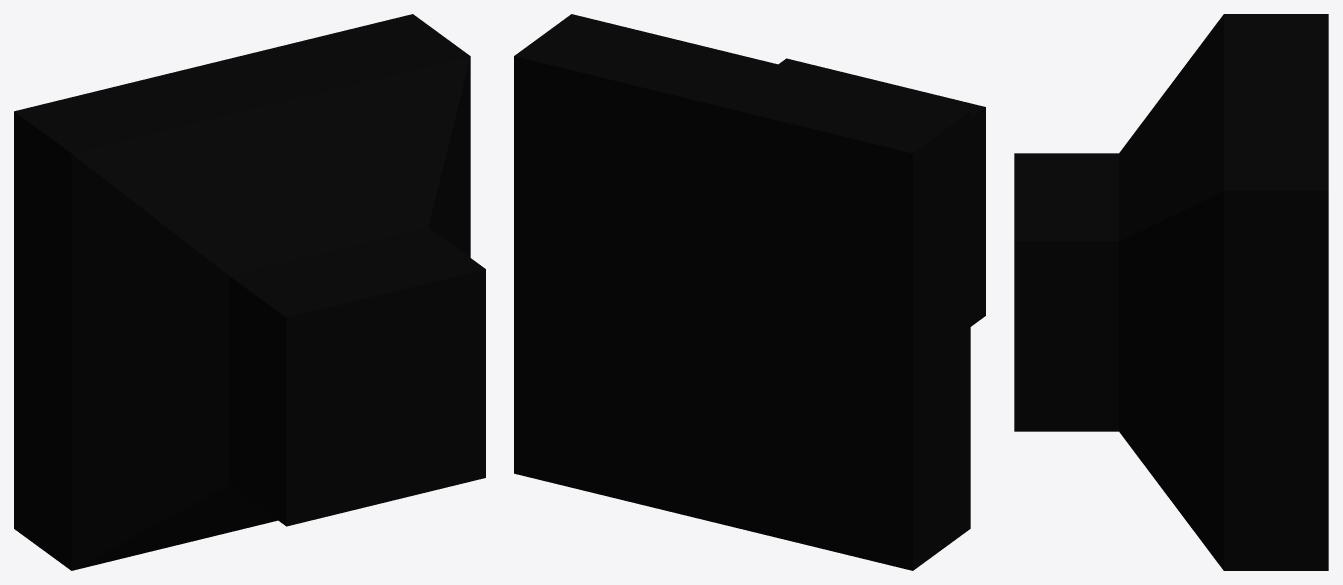
Rendered from node_stabilizer_overlay.obj.
3 views of the same model, side by side, from view 1: azimuth 30°, elevation 25°; view 2: azimuth 150°, elevation 25°; view 3: azimuth 270°, elevation 25° (orthographic). The views are drawn at different scales.
Parts seen in each view (by area): view 1: lock; view 2: lock; view 3: lock.
Boxes of the visible parts, bbox=[...] form: lock: bbox=[14, 14, 485, 570]; lock: bbox=[514, 14, 985, 570]; lock: bbox=[1014, 14, 1328, 570].
Bounding box in the file's own units: 1 × 1 × 0.75.
